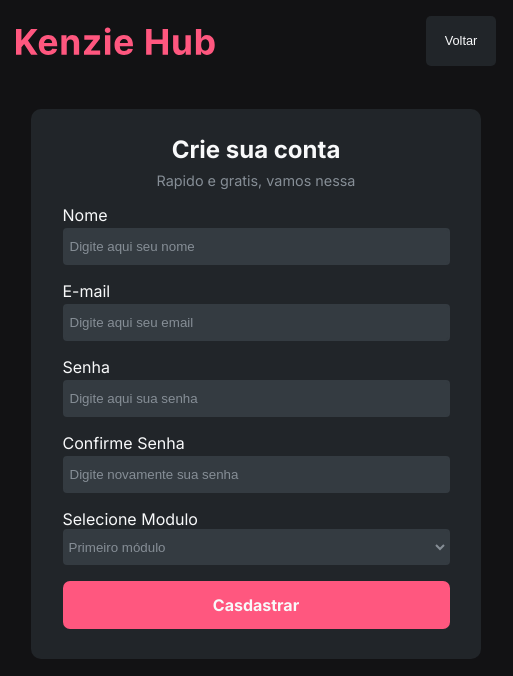
Scenario: Test KenzieHub › Tries to register a new user
Type "John Doe" into the field named "name" at {"x": 257, "y": 247}, box left=63, top=228, right=450, bottom=265
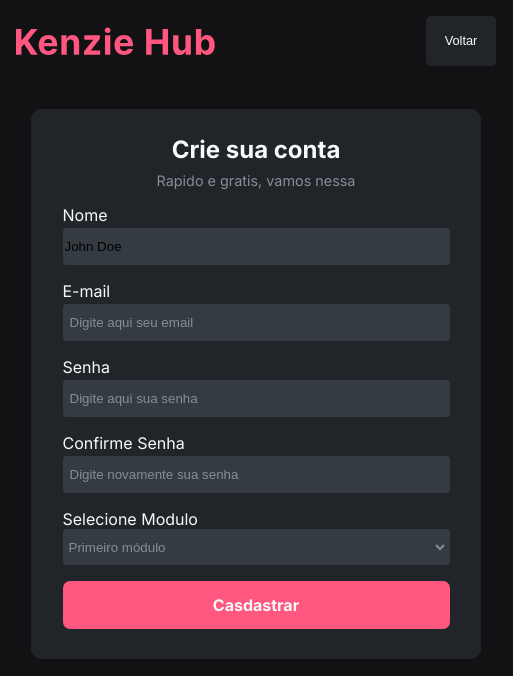
Type "johdoe@mail.com" into the field named "email" at {"x": 257, "y": 323}, box left=63, top=304, right=450, bottom=341
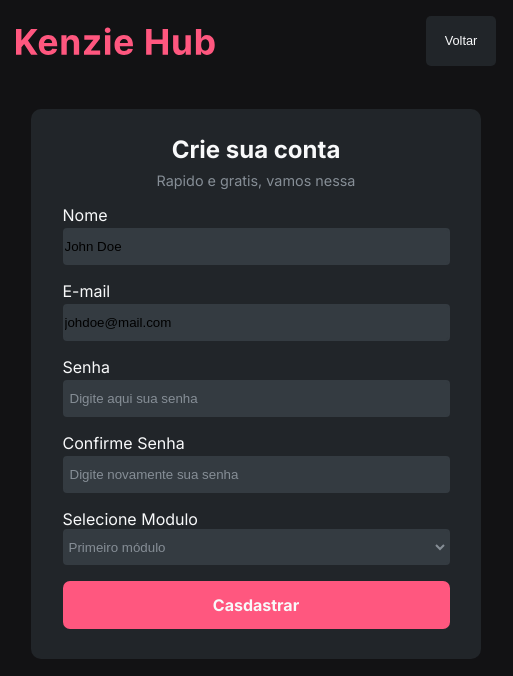
Type "aA@12345" into the password field named "password" at {"x": 257, "y": 399}, box left=63, top=380, right=450, bottom=417
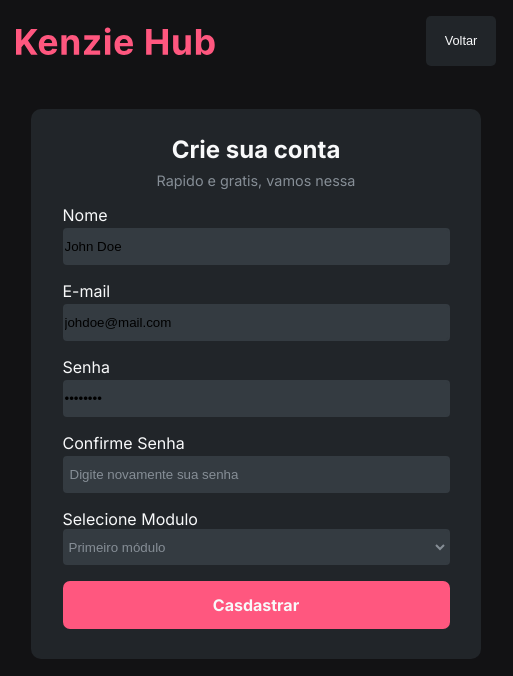
Type "aA@12345" into the password field named "confirmPassword" at {"x": 257, "y": 475}, box left=63, top=456, right=450, bottom=493
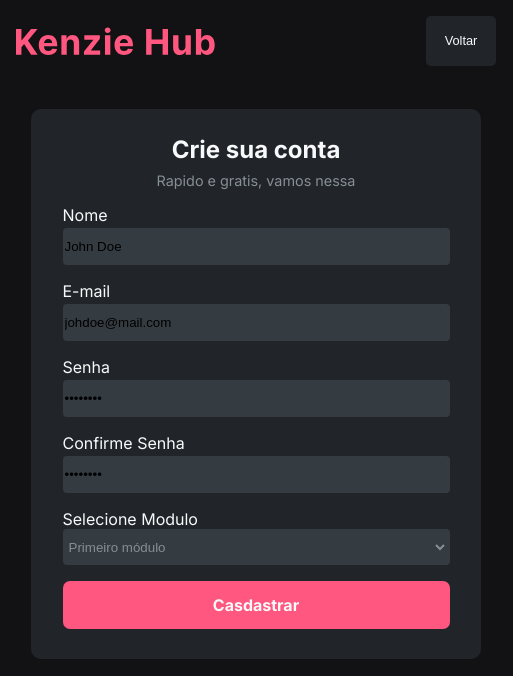
Select "Terceiro módulo" in the dropdown at {"x": 257, "y": 547}, box left=63, top=529, right=450, bottom=565
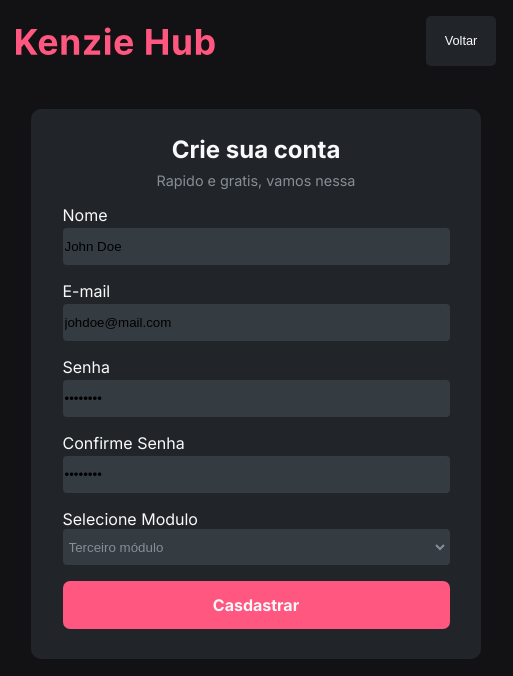
Click the submit button at {"x": 257, "y": 605}, box left=63, top=581, right=450, bottom=629
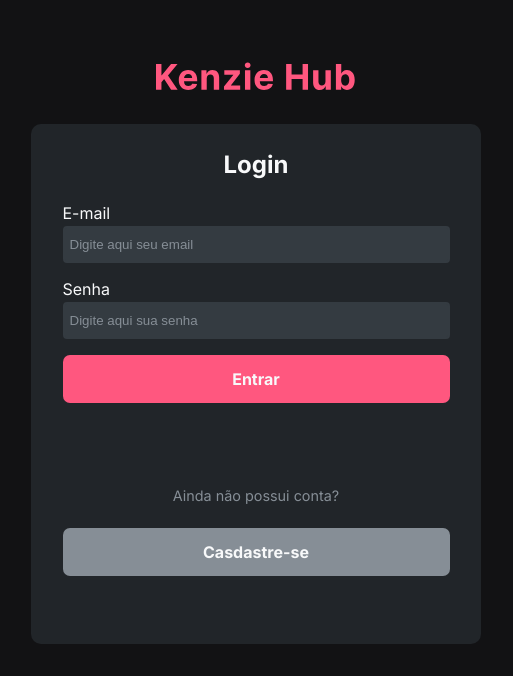
Expected: the heading "Login" is shown, left=224, top=150, right=288, bottom=179
